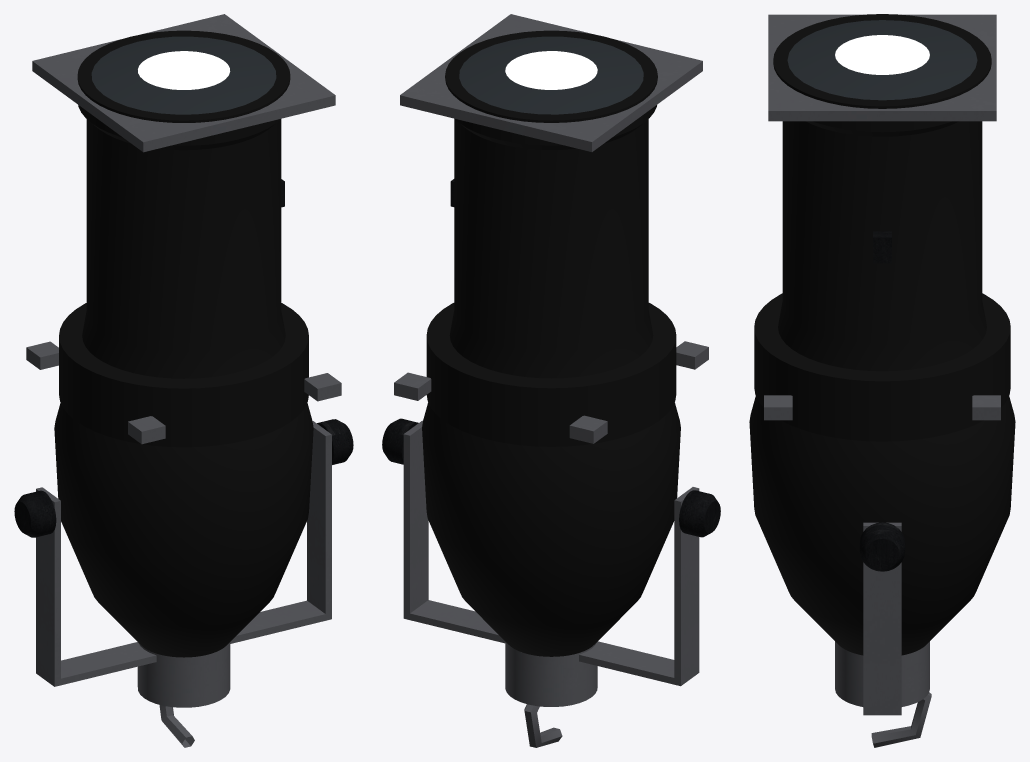
The model's file is profile_source_five.gltf.
3 views of the same model, side by side, from view 1: azimuth 30°, elevation 25°; view 2: azimuth 150°, elevation 25°; view 3: azimuth 270°, elevation 25° (orthographic). The views are drawn at different scales.
Visible parts, largest first — view 1: profile_source_five; view 2: profile_source_five; view 3: profile_source_five.
Part boxes in pixels (<box>): profile_source_five: <box>14,14,353,747</box>; profile_source_five: <box>382,14,720,747</box>; profile_source_five: <box>749,14,1015,747</box>.
Bounding box in the file's own units: 0.402 × 0.8078 × 0.28.
Materials: 5 (3 with a texture image).
